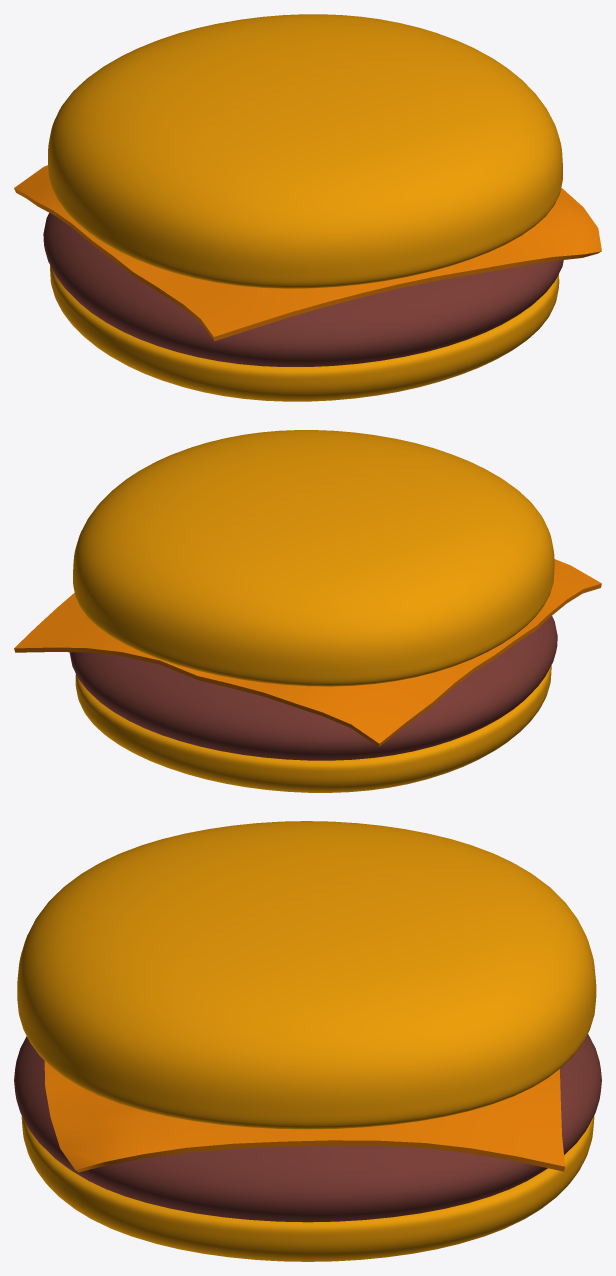
File: burger.gltf
3 views of the same model, one above another, from view 1: azimuth 30°, elevation 25°; view 2: azimuth 150°, elevation 25°; view 3: azimuth 270°, elevation 25° (orthographic). The views are drawn at different scales.
Visible parts, largest first — view 1: Cube.002, Cube.001, Cube, Plane.001; view 2: Cube.002, Cube.001, Cube, Plane.001; view 3: Cube.002, Cube.001, Cube, Plane.001.
Part boxes in pixels (<box>): Cube.002: <box>48,14,562,288</box>; Cube.001: <box>43,213,563,366</box>; Cube: <box>50,265,559,401</box>; Plane.001: <box>14,165,601,341</box>; Cube.002: <box>73,430,554,686</box>; Cube.001: <box>69,616,557,760</box>; Cube: <box>75,665,551,792</box>; Plane.001: <box>14,559,601,746</box>; Cube.002: <box>17,821,596,1129</box>; Cube.001: <box>14,1034,601,1222</box>; Cube: <box>21,1116,594,1261</box>; Plane.001: <box>44,1061,565,1172</box>.
Size of the model in its own units: 9.42 by 5.05 by 9.42.
